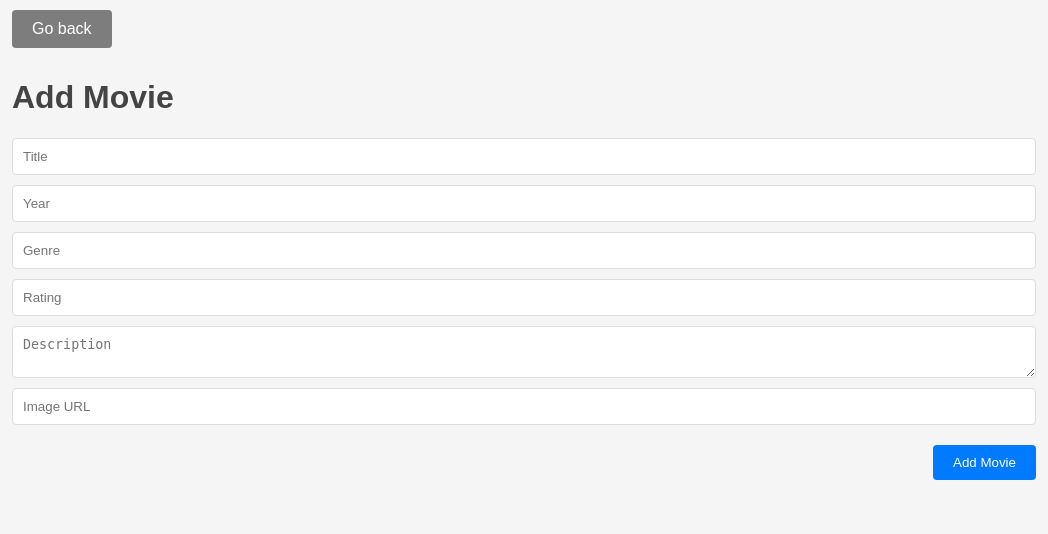
it: AddEditMovieView.vue › validates the form inputs
Submit the form
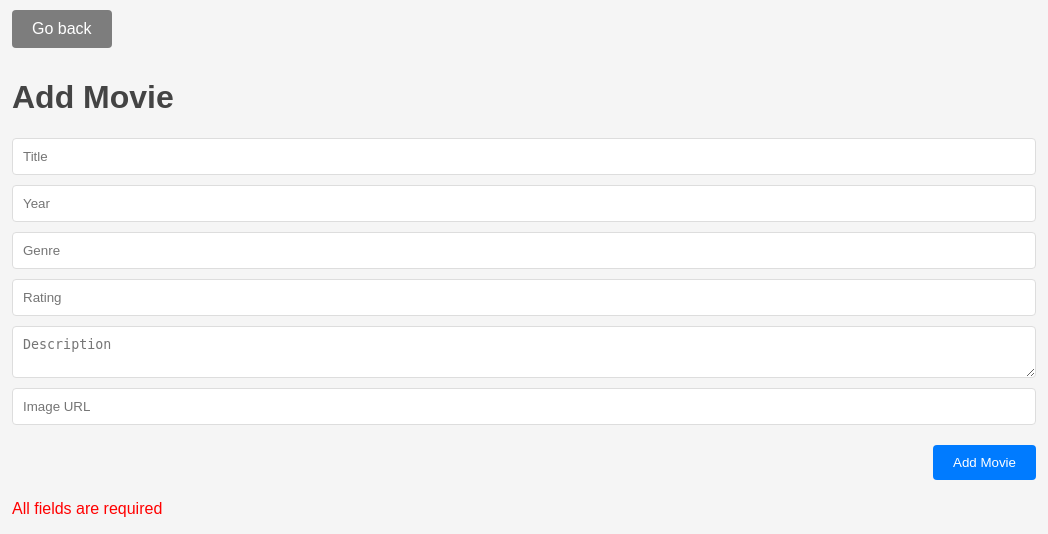
Now the text with class "error" reads "All fields are required", box left=12, top=500, right=162, bottom=517
Type "Test Movie" into the field with id "title".
click(524, 156); type("Test Movie")  # box left=12, top=138, right=1036, bottom=175
Type "1899" into the number field with id "year".
click(524, 203); type("1899")  # box left=12, top=185, right=1036, bottom=222
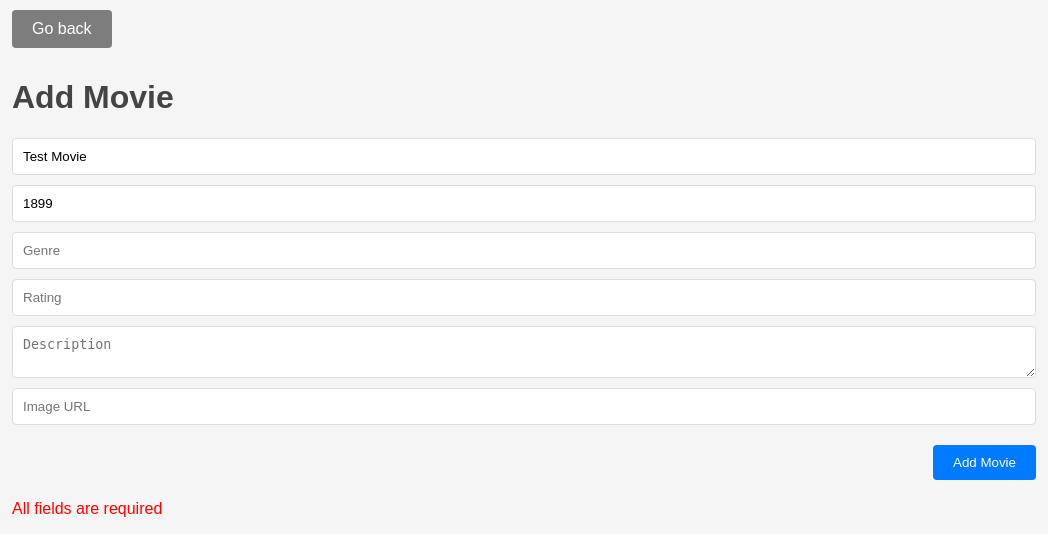
Type "Action" into the field with id "genre".
click(524, 250); type("Action")  # box left=12, top=232, right=1036, bottom=269
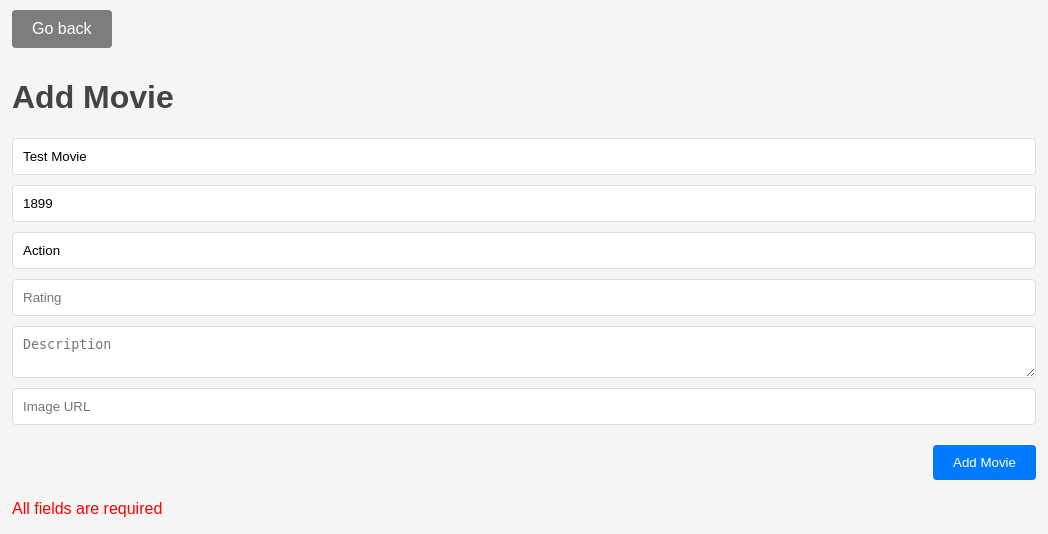
Type "A great movie" into the text box with id "description".
click(524, 352); type("A great movie")  # box left=12, top=326, right=1036, bottom=378
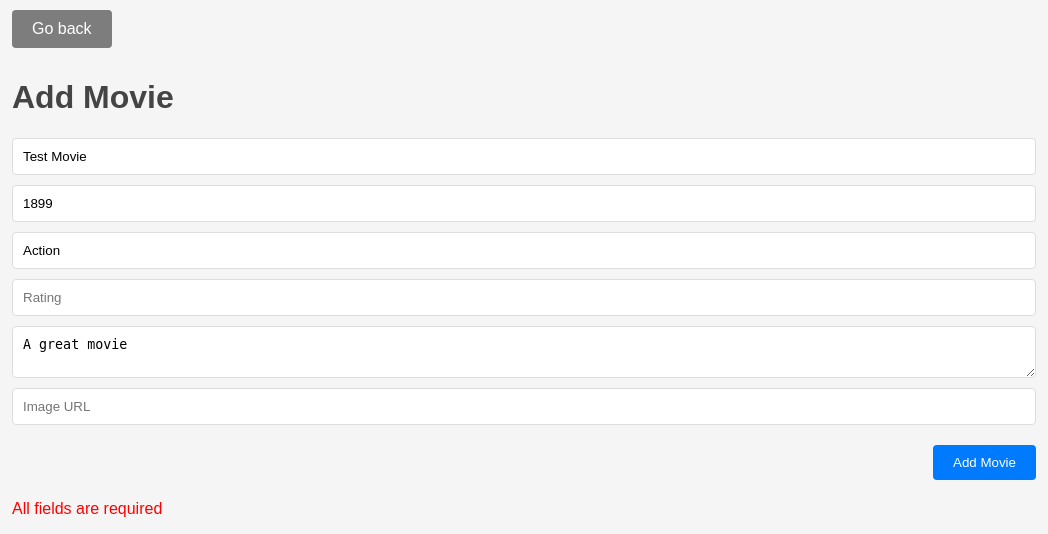
Type "http://example.com/image.jpg" into the field with id "image".
click(524, 406); type("http://example.com/image.jpg")  # box left=12, top=388, right=1036, bottom=425
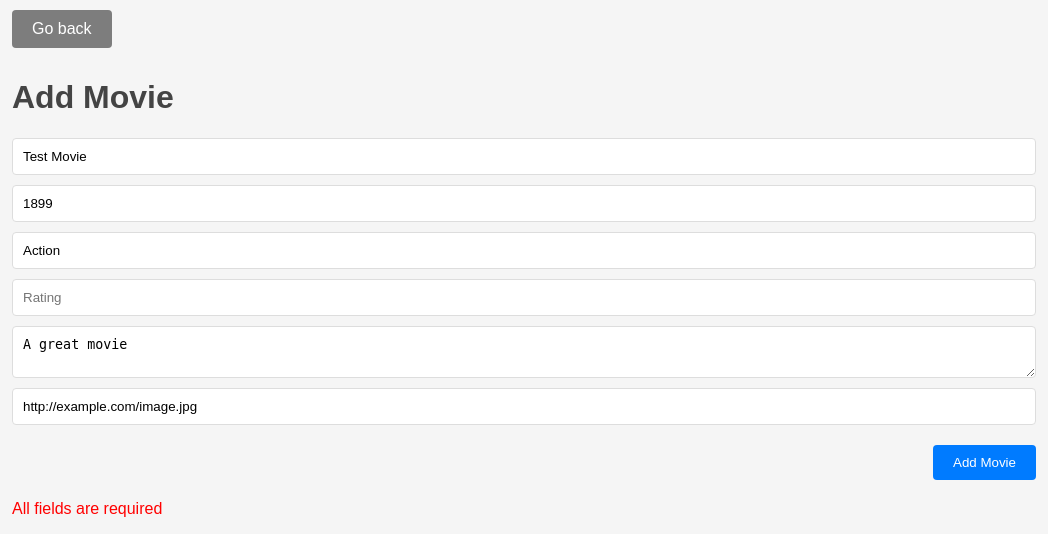
Submit the form
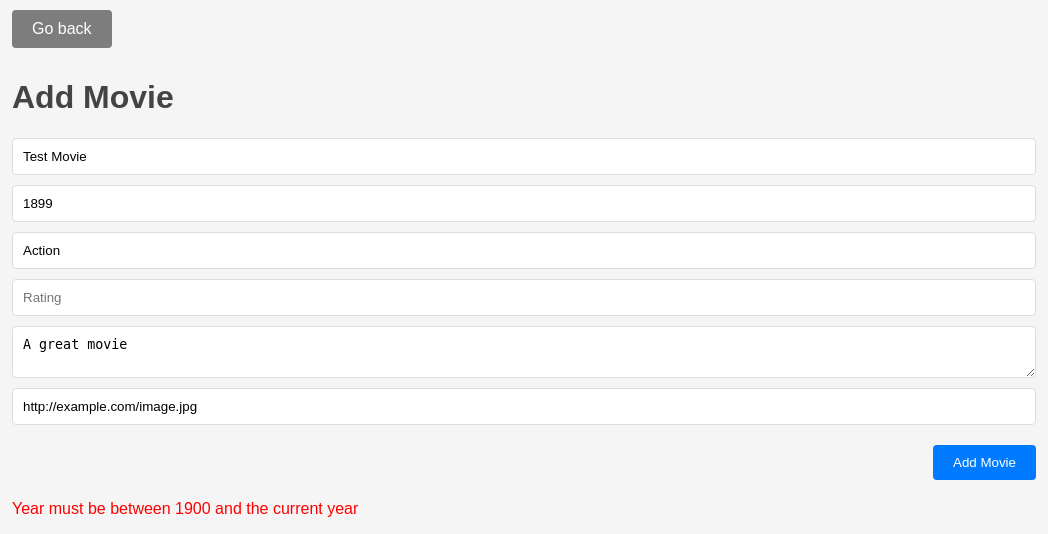
Now the text with class "error" reads "Year must be between 1900 and the current year", box left=12, top=500, right=358, bottom=517
